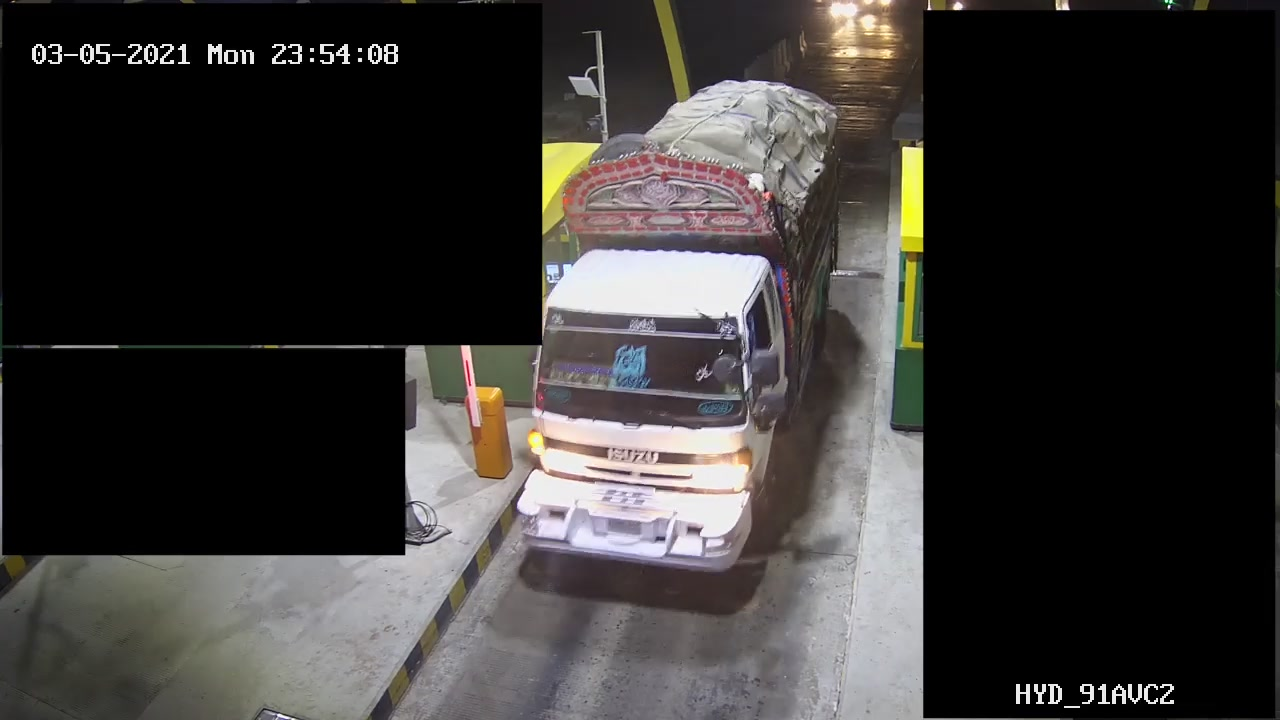F3: (503, 79, 845, 593)
